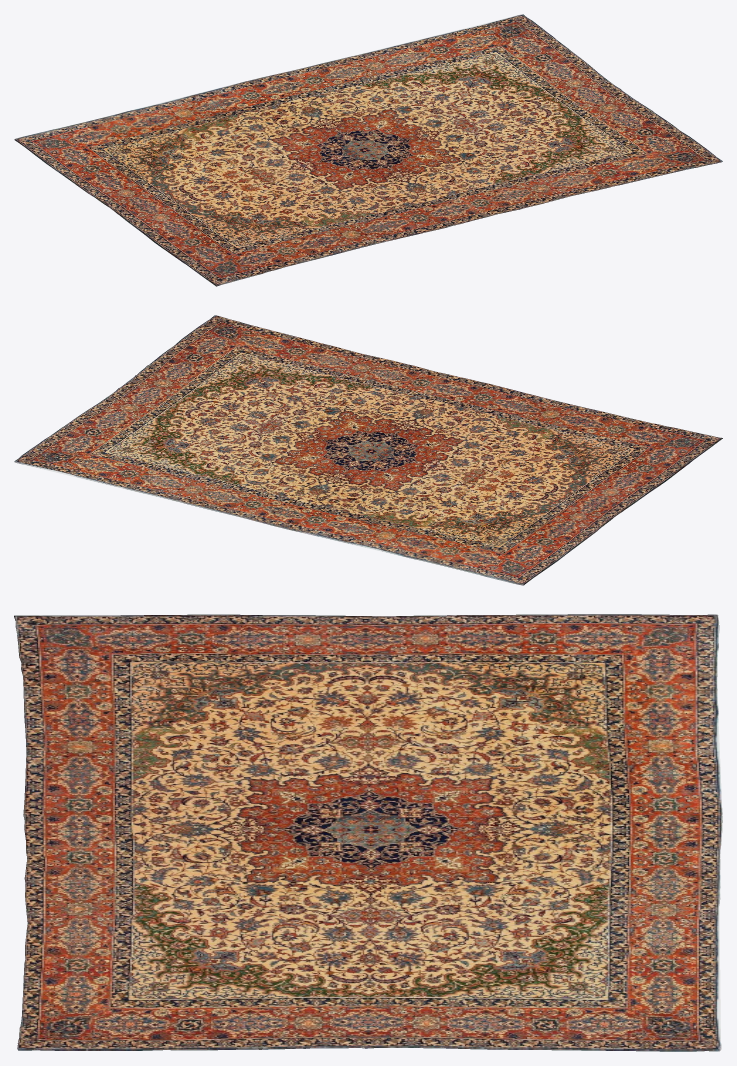
Rendered from Fine Persian Esfahan Carpet.fbx.
The picture shows the model from 3 angles, top to bottom: view 1: azimuth 30°, elevation 25°; view 2: azimuth 150°, elevation 25°; view 3: azimuth 270°, elevation 25°; orthographic projection. The views are drawn at different scales.
Parts seen in each view (by area): view 1: Fine Persian Esfahan Carpet; view 2: Fine Persian Esfahan Carpet; view 3: Fine Persian Esfahan Carpet.
Part boxes in pixels (x1,y1,x2,y2): Fine Persian Esfahan Carpet: (14,14,722,286); Fine Persian Esfahan Carpet: (14,315,722,585); Fine Persian Esfahan Carpet: (14,614,722,1051).
Size of the model in its own units: 378 by 0.5 by 259.
